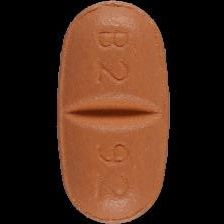63629-3816: (0, 0, 224, 224)
